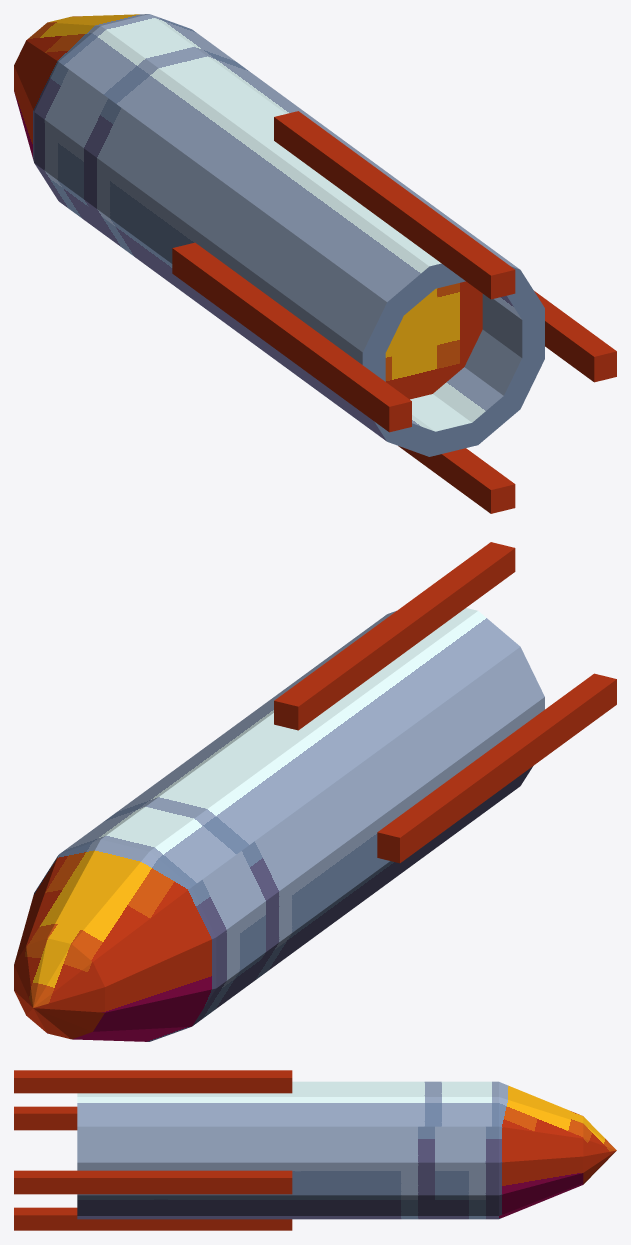
The model's file is rocket.fbx.
3 views of the same model, one above another, from view 1: azimuth 30°, elevation 25°; view 2: azimuth 150°, elevation 25°; view 3: azimuth 270°, elevation 25° (orthographic). The views are drawn at different scales.
Visible parts, largest first — view 1: cylinder; view 2: cylinder; view 3: cylinder.
Boxes of the visible parts, left/top/right/bottom form: cylinder: left=14, top=14, right=616, bottom=513; cylinder: left=14, top=542, right=616, bottom=1041; cylinder: left=14, top=1070, right=616, bottom=1230.
Bounding box in the file's own units: 62.5 × 62.5 × 223.
Materials: 1 (1 with a texture image).
